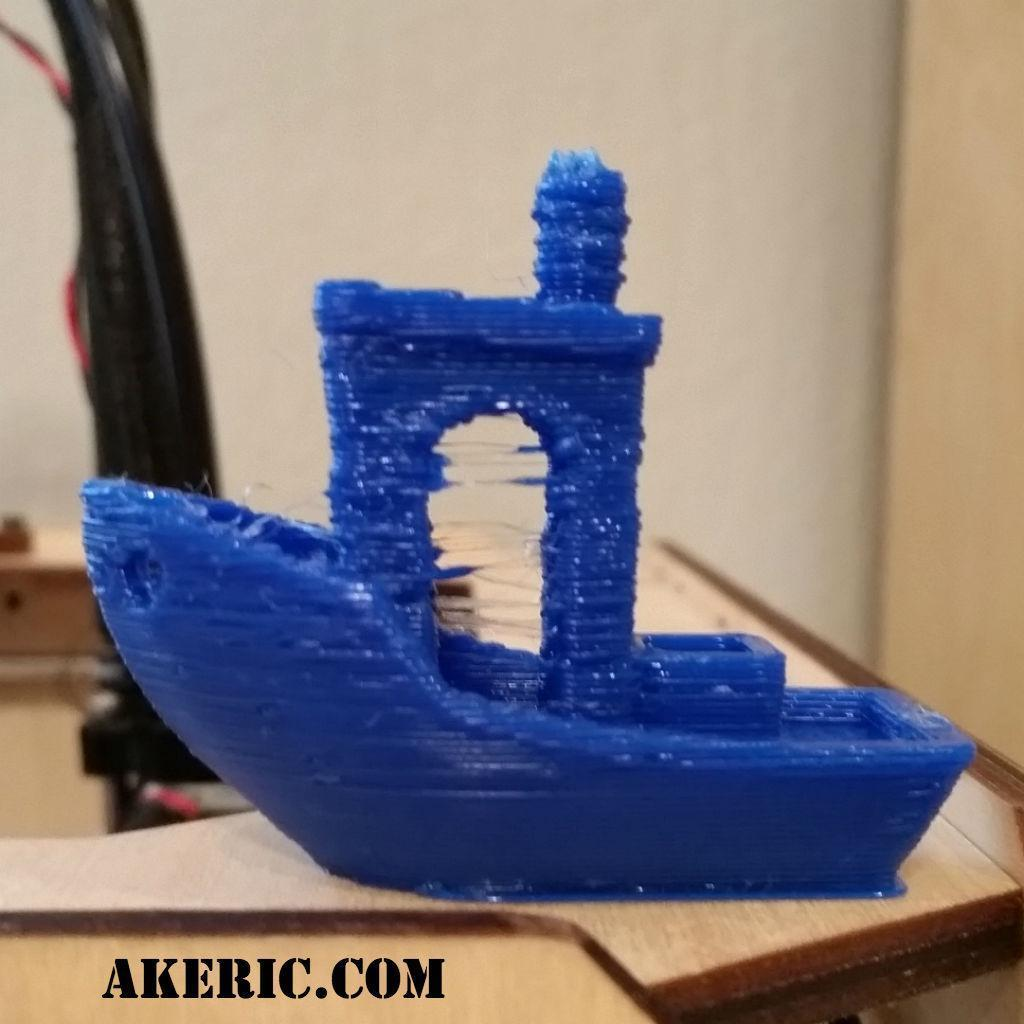Spaghetti: (59, 469, 442, 903), (313, 268, 671, 487)
Stringing or Oozing: (374, 393, 579, 715), (517, 137, 639, 272)
